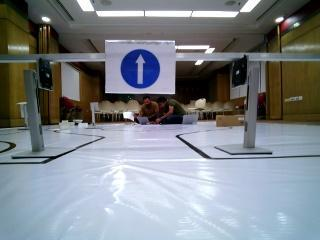straight: (103, 40, 175, 92)
